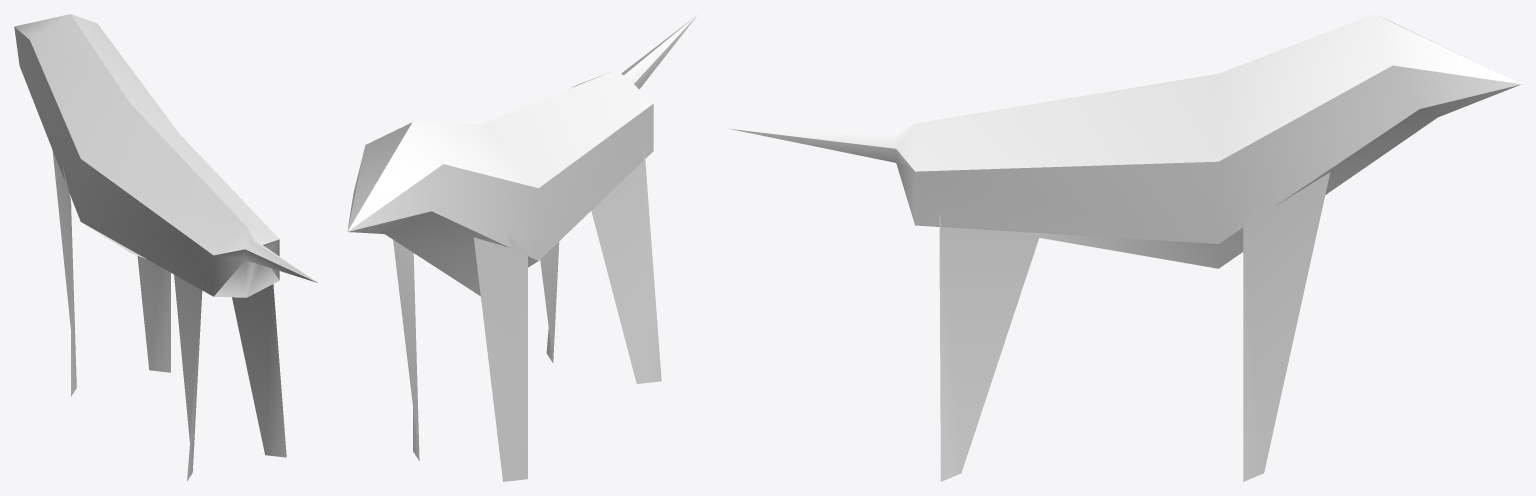
File: WolfCollider.obj
3 renders of one model, left to right at view 1: azimuth 30°, elevation 25°; view 2: azimuth 150°, elevation 25°; view 3: azimuth 270°, elevation 25°, orthographic. The views are drawn at different scales.
Visible parts, largest first — view 1: LOD.001; view 2: LOD.001; view 3: LOD.001.
Part boxes in pixels (x1,y1,x2,y2): LOD.001: (14,14,317,481); LOD.001: (347,14,697,481); LOD.001: (728,14,1521,481).
Bounding box in the file's own units: 6.48 × 20.72 × 34.22.
